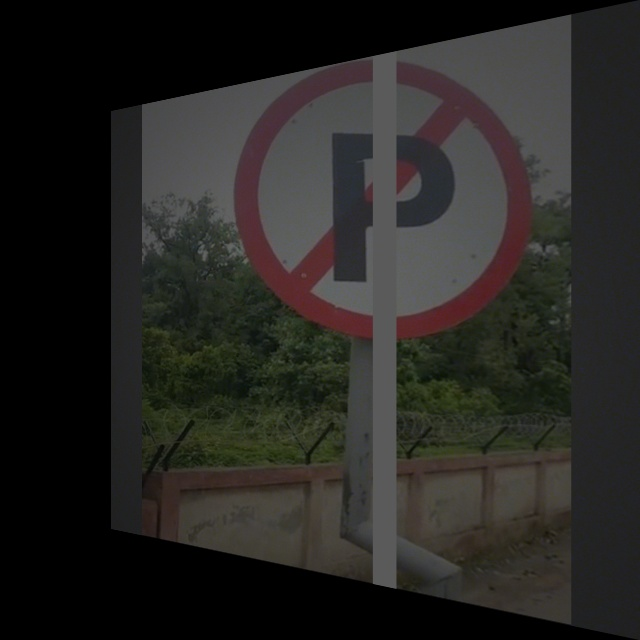No_Parking: (240, 30, 527, 334)
